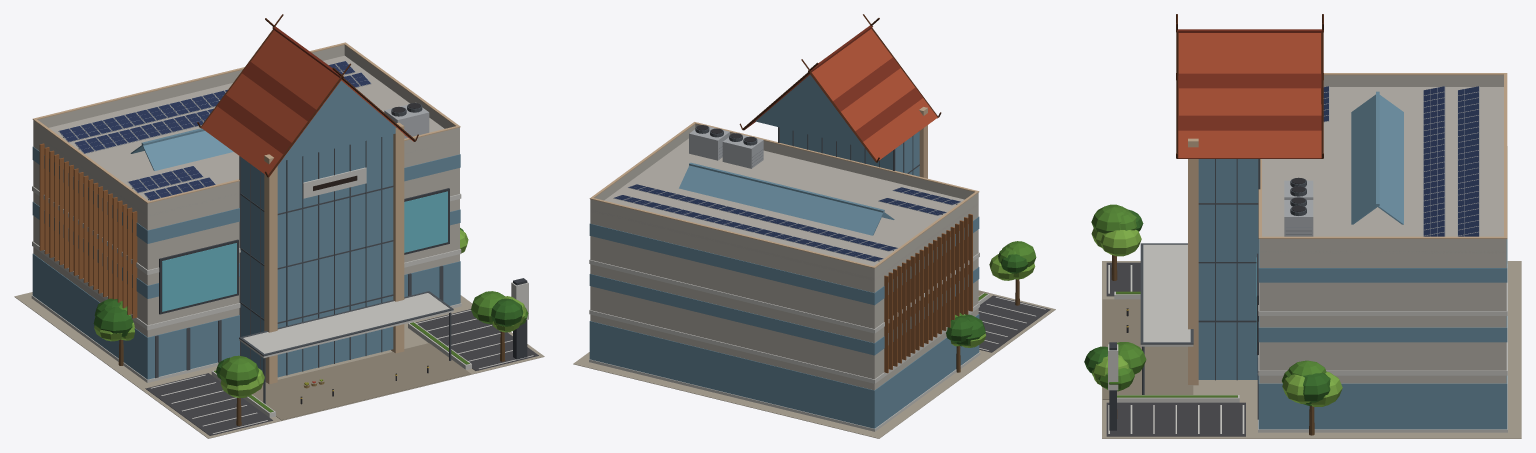
The model's file is shop_5.glb.
3 views of the same model, side by side, from view 1: azimuth 30°, elevation 25°; view 2: azimuth 150°, elevation 25°; view 3: azimuth 270°, elevation 25° (orthographic). The views are drawn at different scales.
Parts seen in each view (by area): view 1: body, windows; view 2: body; view 3: body.
Part boxes in pixels (x1,y1,x2,y2): body: (14, 14, 544, 438); windows: (162, 191, 447, 398); body: (573, 14, 1055, 438); body: (1084, 14, 1521, 438).
Size of the model in its own units: 34.82 by 27.86 by 33.25.
